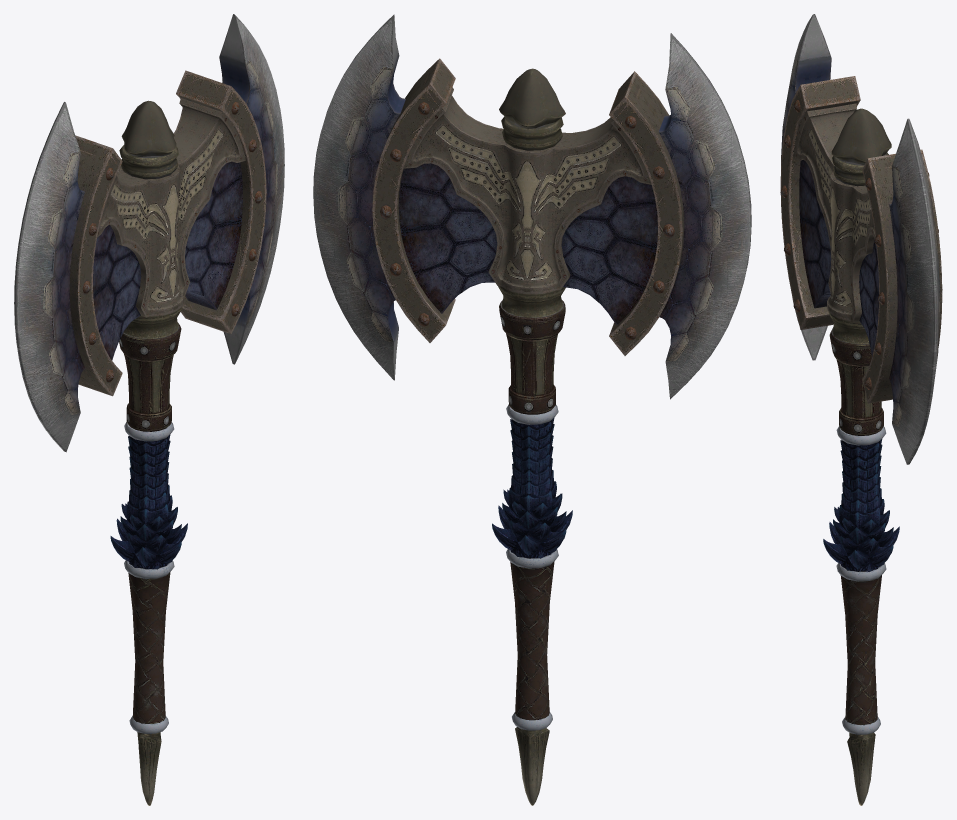
Rendered from sou010.obj.
3 views of the same model, side by side, from view 1: azimuth 30°, elevation 25°; view 2: azimuth 150°, elevation 25°; view 3: azimuth 270°, elevation 25° (orthographic). The views are drawn at different scales.
Visible parts, largest first — view 1: sou010_000_LOD_1; view 2: sou010_000_LOD_1; view 3: sou010_000_LOD_1.
Boxes of the visible parts, x1,y1,x2,y2 form: sou010_000_LOD_1: (14, 14, 284, 805); sou010_000_LOD_1: (313, 14, 751, 805); sou010_000_LOD_1: (780, 14, 942, 805).
Size of the model in its own units: 49.84 by 103 by 20.55.
